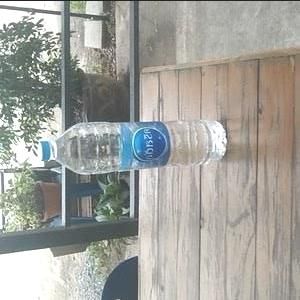bottle: (34, 112, 232, 176)
